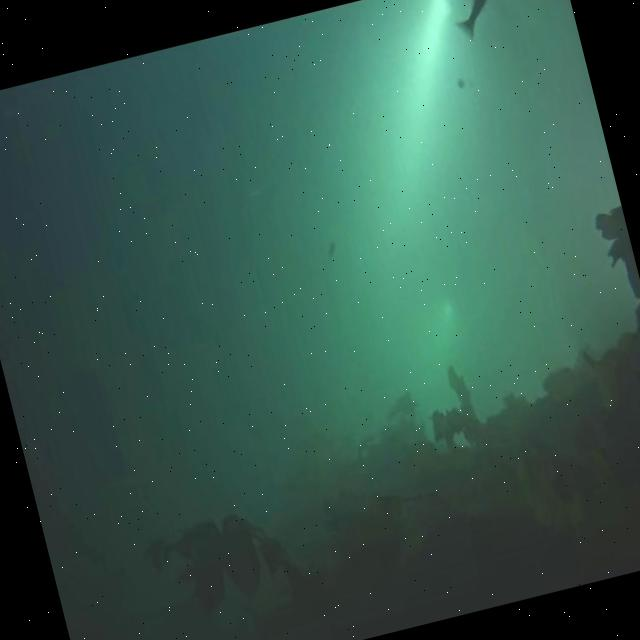fish: (443, 0, 517, 45)
